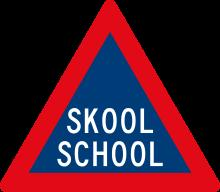School Ahead: (29, 23, 197, 185)
